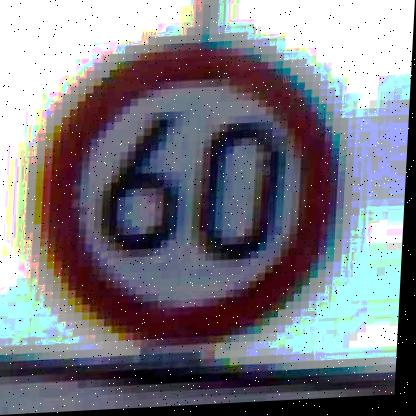Speed Limit -60-: (18, 29, 362, 366)
